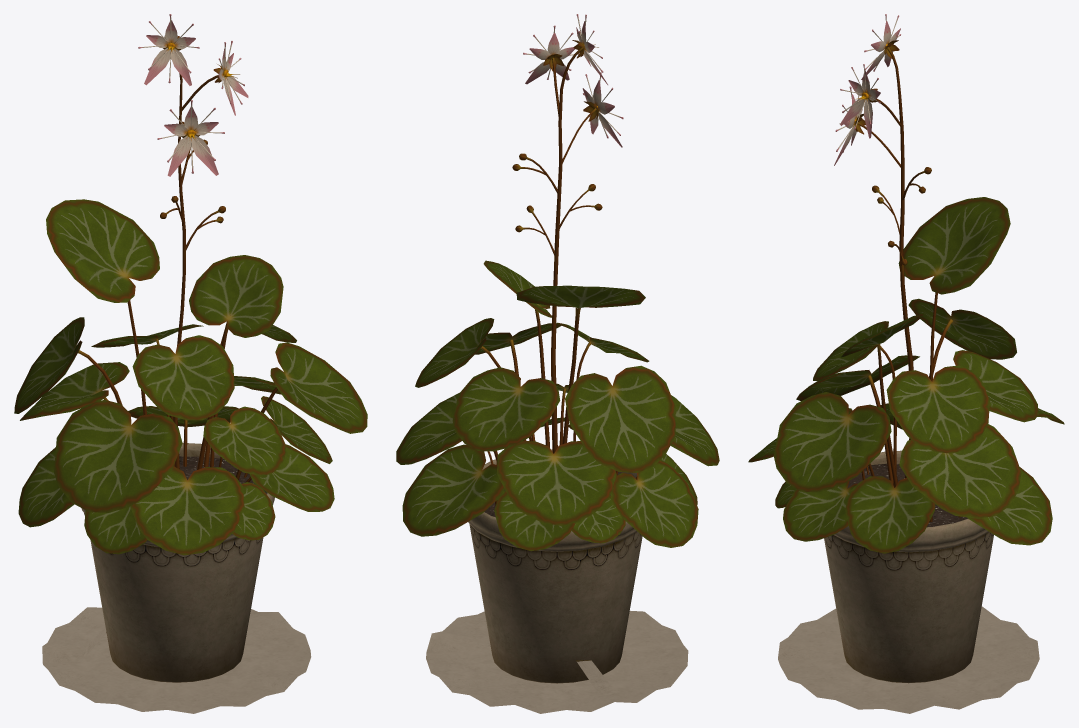
Rendered from FLOWERPOT.obj.
3 views of the same model, side by side, from view 1: azimuth 30°, elevation 25°; view 2: azimuth 150°, elevation 25°; view 3: azimuth 270°, elevation 25° (orthographic). The views are drawn at different scales.
Parts seen in each view (by area): view 1: object_0; view 2: object_0; view 3: object_0.
Part boxes in pixels (x1=…): object_0: x1=14, y1=14, x2=367, y2=713; object_0: x1=396, y1=14, x2=719, y2=713; object_0: x1=748, y1=14, x2=1064, y2=713.
Bounding box in the file's own units: 25.18 × 54.36 × 24.53.
Materials: 2 (2 with a texture image).
